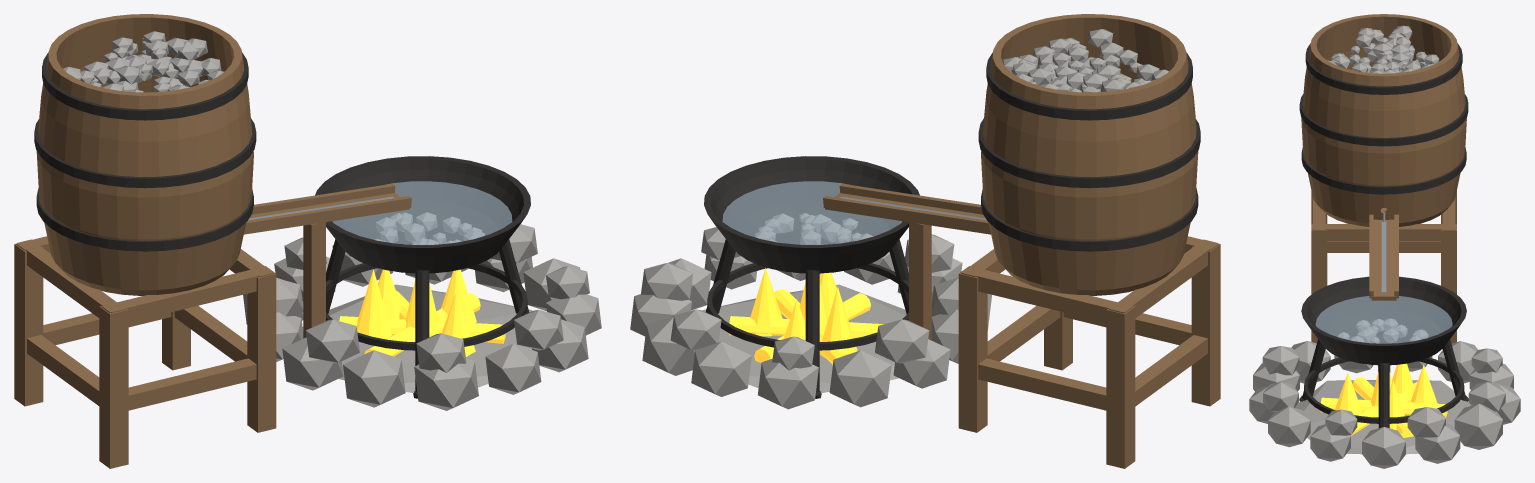
The model's file is LeachingStation.fbx.
3 views of the same model, side by side, from view 1: azimuth 30°, elevation 25°; view 2: azimuth 150°, elevation 25°; view 3: azimuth 270°, elevation 25° (orthographic). The views are drawn at different scales.
Parts seen in each view (by area): view 1: leach_barrel, hearth_stones, leach_stand, cauldron, leach_hoops, cauldron_liquid, leach_trough, cauldron_fire, leach_stones, cauldron_legs, cauldron_salt; view 2: leach_barrel, hearth_stones, leach_stand, cauldron, leach_hoops, cauldron_liquid, leach_trough, cauldron_fire, leach_stones, cauldron_legs, cauldron_salt; view 3: leach_barrel, hearth_stones, cauldron, leach_stand, cauldron_liquid, leach_hoops, cauldron_fire, leach_stones, cauldron_legs, leach_trough, cauldron_salt, leach_flow.
Boxes of the visible parts, x1=… form: leach_barrel: x1=36, y1=14, x2=253, y2=295; hearth_stones: x1=243, y1=224, x2=601, y2=410; leach_stand: x1=14, y1=236, x2=276, y2=468; cauldron: x1=315, y1=156, x2=530, y2=273; leach_hoops: x1=34, y1=52, x2=256, y2=251; cauldron_liquid: x1=332, y1=181, x2=512, y2=244; leach_trough: x1=244, y1=184, x2=411, y2=338; cauldron_fire: x1=339, y1=269, x2=505, y2=356; leach_stones: x1=63, y1=31, x2=224, y2=92; cauldron_legs: x1=326, y1=239, x2=529, y2=398; cauldron_salt: x1=375, y1=212, x2=484, y2=244; leach_barrel: x1=981, y1=14, x2=1198, y2=295; hearth_stones: x1=630, y1=227, x2=991, y2=409; leach_stand: x1=958, y1=236, x2=1220, y2=468; cauldron: x1=704, y1=156, x2=919, y2=273; leach_hoops: x1=978, y1=52, x2=1200, y2=251; cauldron_liquid: x1=722, y1=181, x2=902, y2=244; leach_trough: x1=823, y1=184, x2=990, y2=340; cauldron_fire: x1=729, y1=268, x2=883, y2=364; leach_stones: x1=1003, y1=29, x2=1168, y2=92; cauldron_legs: x1=706, y1=239, x2=908, y2=398; cauldron_salt: x1=755, y1=213, x2=872, y2=244; leach_barrel: x1=1301, y1=14, x2=1466, y2=226; hearth_stones: x1=1249, y1=341, x2=1520, y2=468; cauldron: x1=1301, y1=276, x2=1466, y2=365; leach_stand: x1=1311, y1=191, x2=1456, y2=343; cauldron_liquid: x1=1315, y1=296, x2=1452, y2=343; leach_hoops: x1=1299, y1=43, x2=1468, y2=194; cauldron_fire: x1=1320, y1=363, x2=1447, y2=437; leach_stones: x1=1328, y1=25, x2=1439, y2=73; cauldron_legs: x1=1299, y1=339, x2=1468, y2=428; leach_trough: x1=1369, y1=214, x2=1398, y2=372; cauldron_salt: x1=1338, y1=318, x2=1428, y2=364; leach_flow: x1=1381, y1=213, x2=1386, y2=293.
Size of the model in its own units: 2.59 by 1.7 by 1.51.
